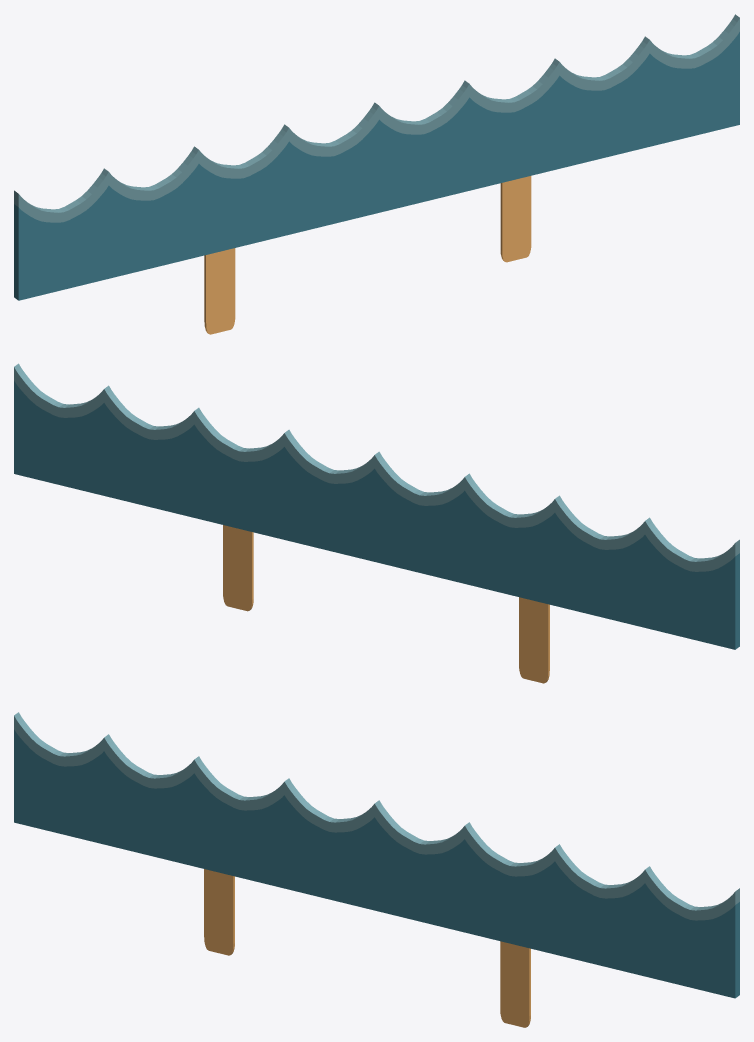
Rendered from Puppet_Waves.fbx.
3 views of the same model, one above another, from view 1: azimuth 30°, elevation 25°; view 2: azimuth 150°, elevation 25°; view 3: azimuth 330°, elevation 25° (orthographic).
Parts seen in each view (by area): view 1: Puppet Waves; view 2: Puppet Waves; view 3: Puppet Waves.
Boxes of the visible parts, left/top/right/bottom form: Puppet Waves: left=14, top=14, right=739, bottom=334; Puppet Waves: left=14, top=363, right=739, bottom=683; Puppet Waves: left=14, top=712, right=739, bottom=1027.
Bounding box in the file's own units: 617 × 155 × 7.
